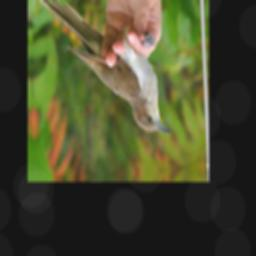Cuckoo: (33, 0, 171, 148)
